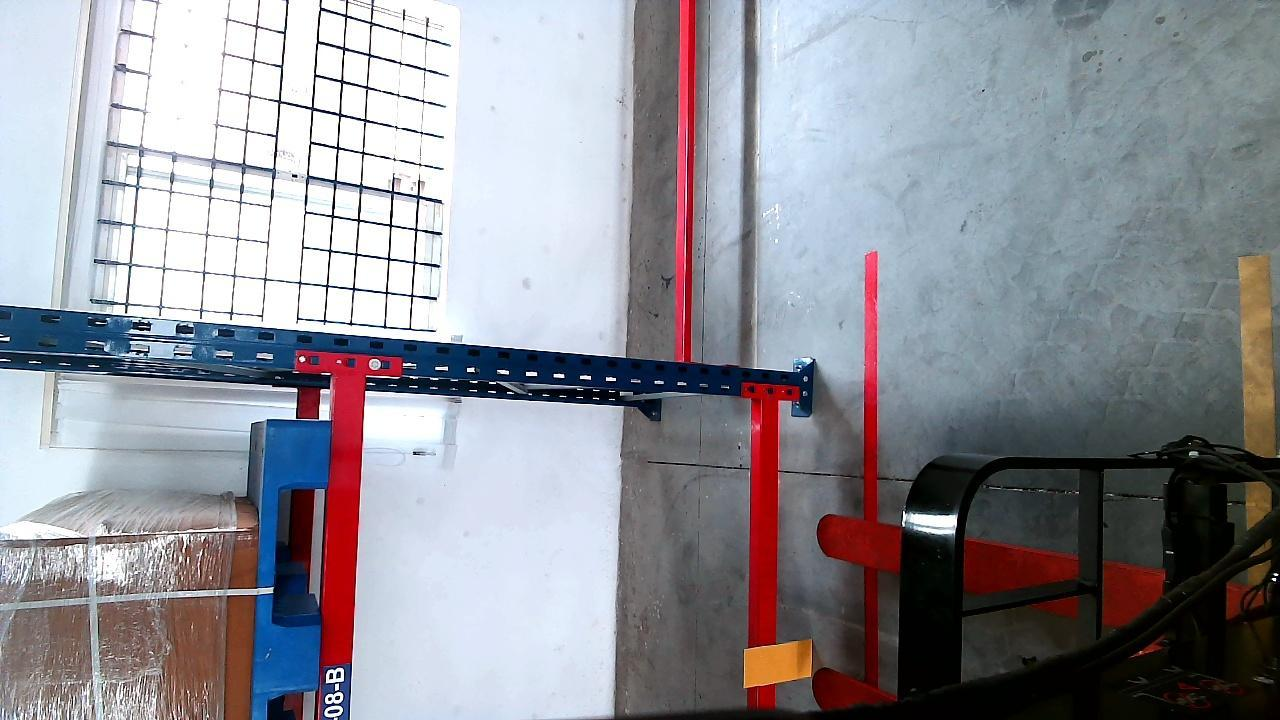red_line: (860, 246, 882, 692)
yellow_line: (1237, 256, 1268, 583)
